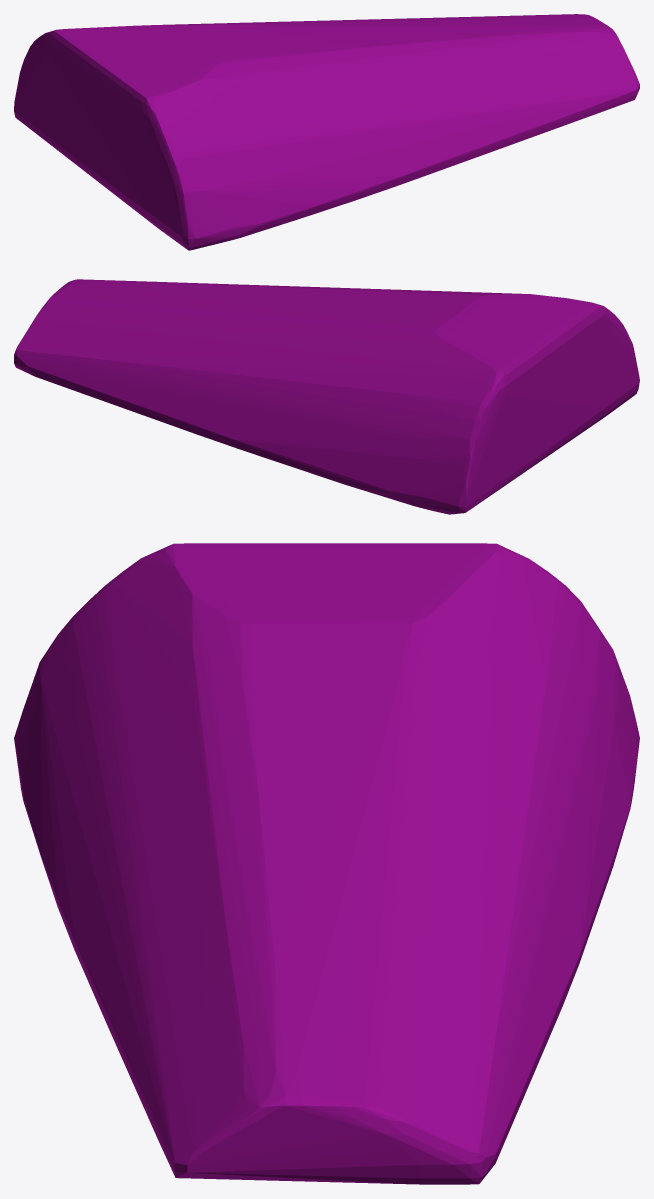
Rendered from left-shin-0_part_14.obj.
3 views of the same model, one above another, from view 1: azimuth 30°, elevation 25°; view 2: azimuth 150°, elevation 25°; view 3: azimuth 270°, elevation 25° (orthographic). The views are drawn at different scales.
Bounding box in the file's own units: 0.1463 × 0.0338 × 0.0892.
